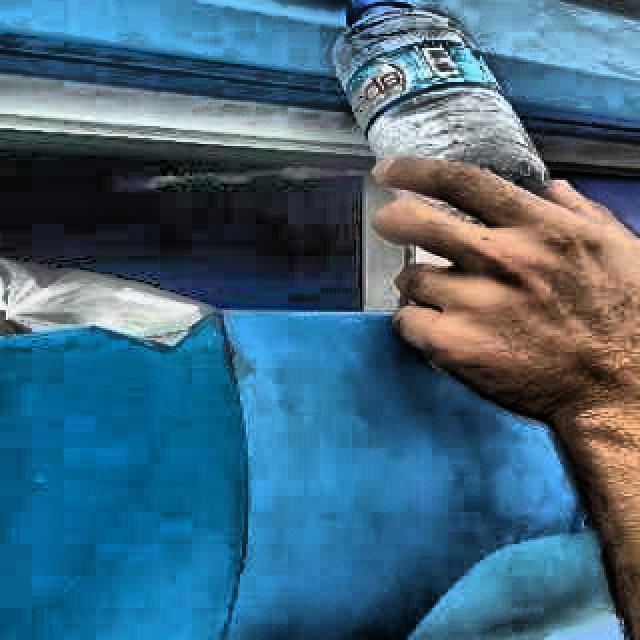plastic: (331, 0, 549, 191)
